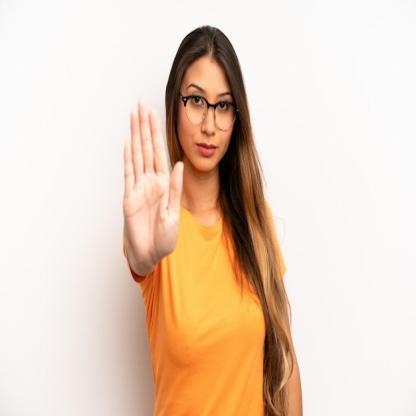stop: (122, 92, 186, 276)
